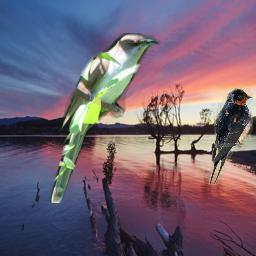Cuckoo: (50, 33, 161, 203)
Swallow: (207, 87, 253, 185)
